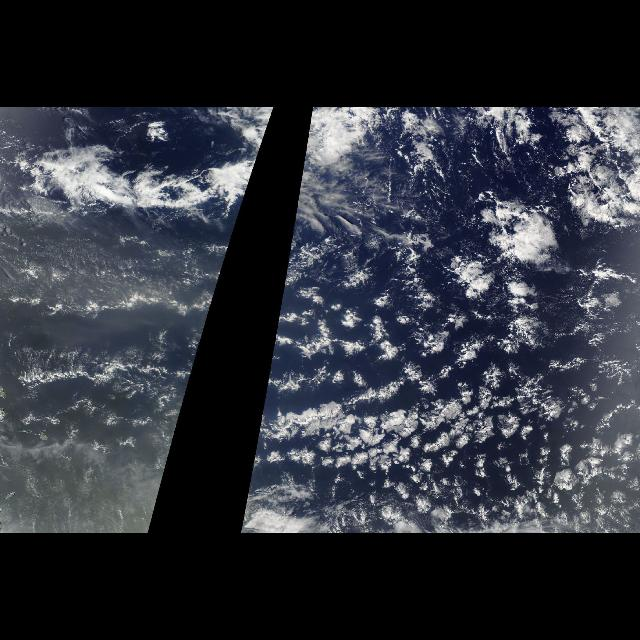Fish: (3, 120, 271, 234), (290, 120, 356, 234)
Flower: (264, 240, 640, 512)
